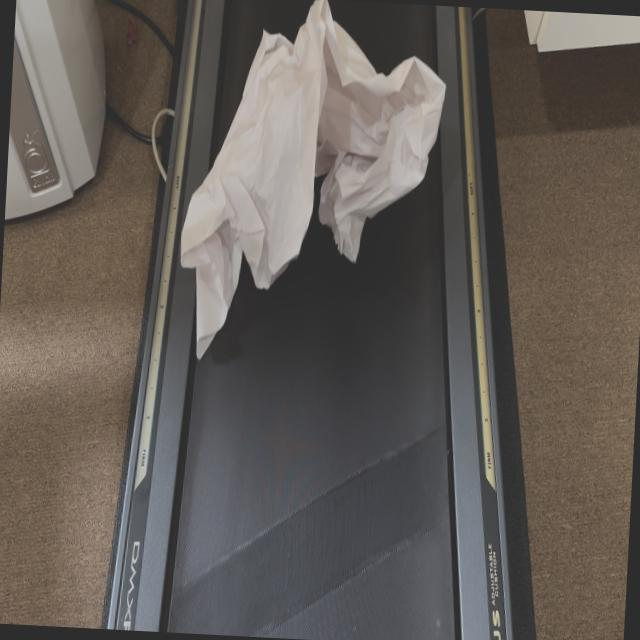Recycle: (173, 0, 452, 377)
